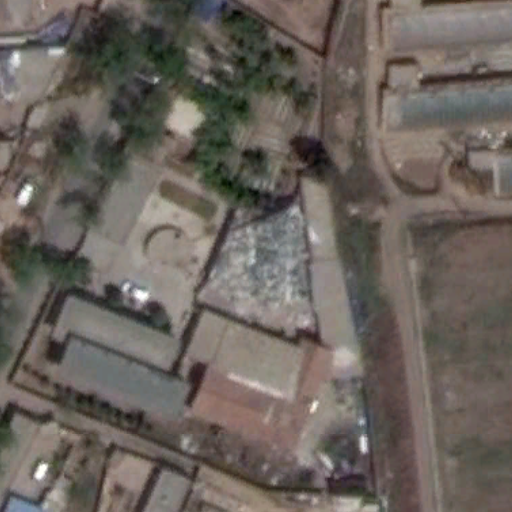msw: (208, 208, 314, 315)
